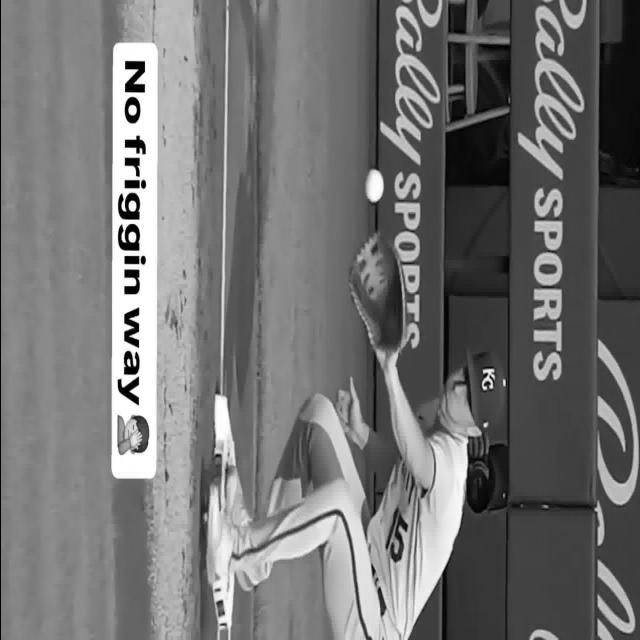base: (209, 393, 235, 507), (211, 576, 234, 640)
baseball: (364, 169, 382, 202)
baseball_glove: (349, 233, 405, 353)
shoe: (205, 487, 234, 585), (224, 465, 251, 527), (235, 571, 259, 591)
